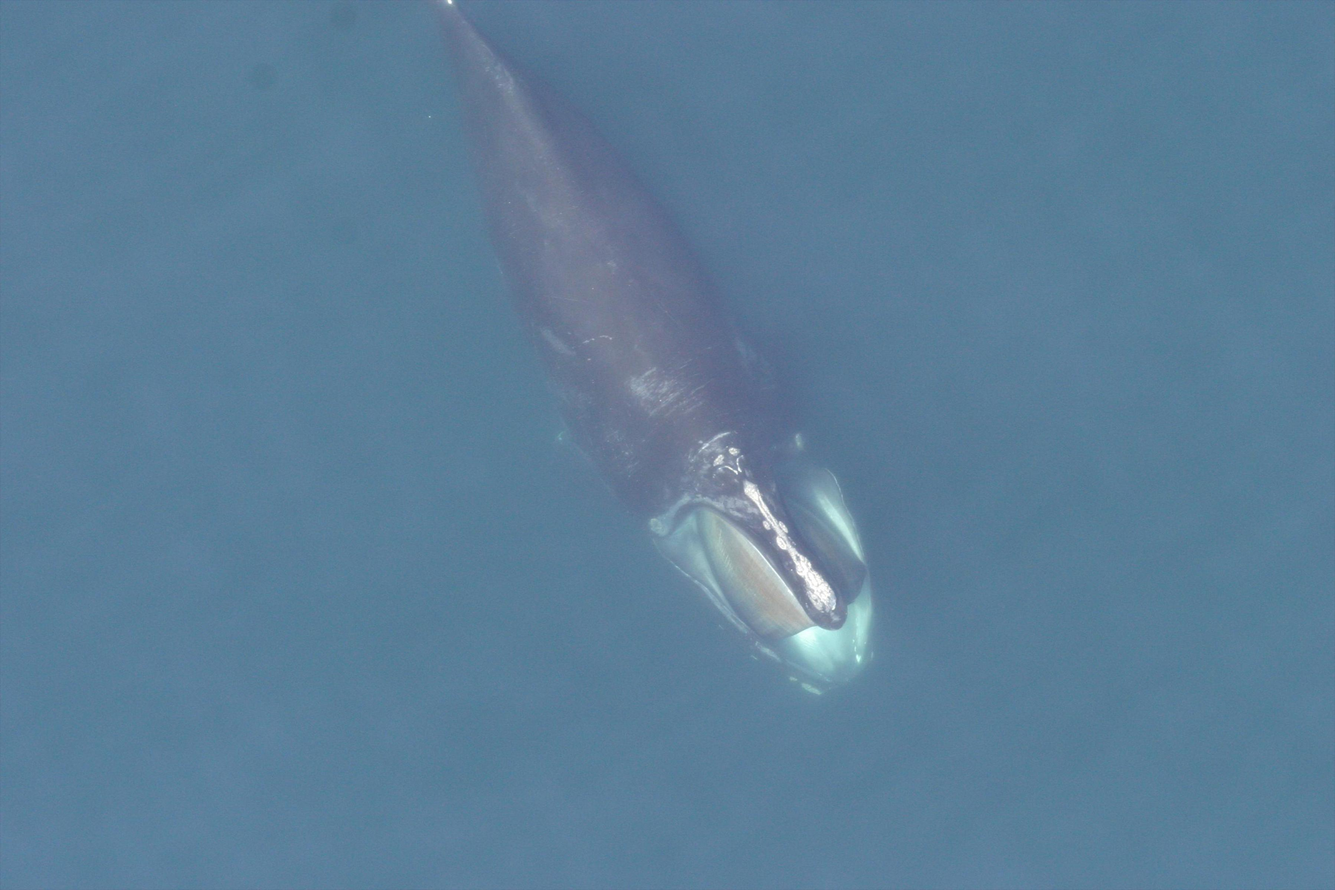whale: (412, 0, 886, 704)
